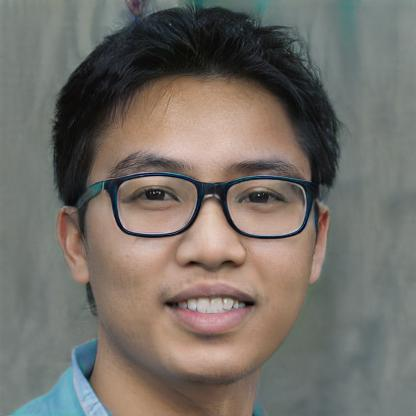glasses: (98, 169, 318, 245)
